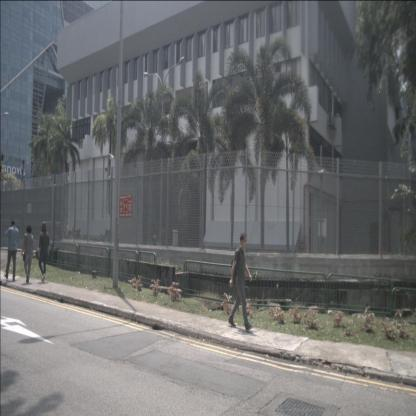human-pedestrian-adult: (228, 232, 254, 331), (4, 217, 20, 281), (21, 224, 34, 285), (38, 221, 50, 283)
